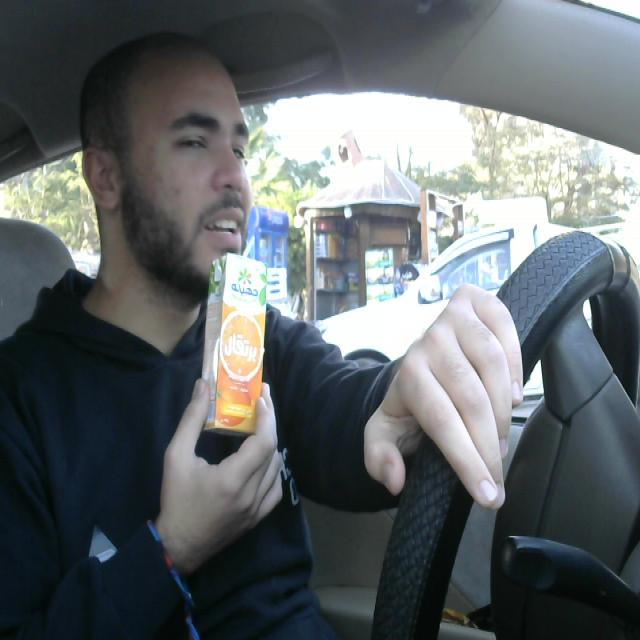drinking: (205, 229, 274, 443)
